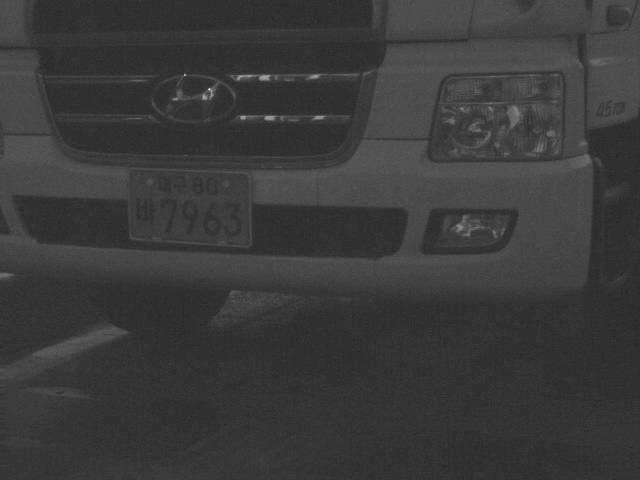car: (1, 1, 637, 343)
plate: (127, 168, 253, 250)
